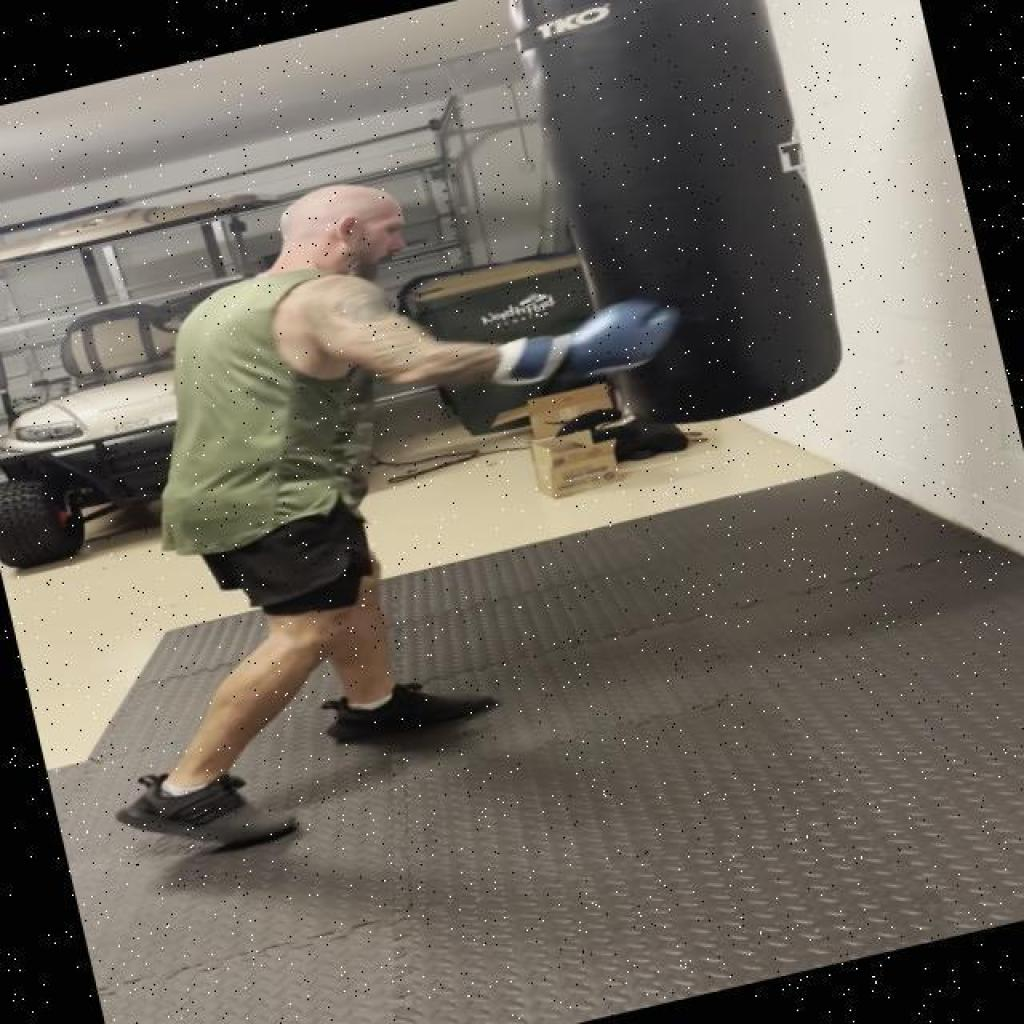bag: (483, 0, 888, 451)
hook: (126, 96, 732, 494)
